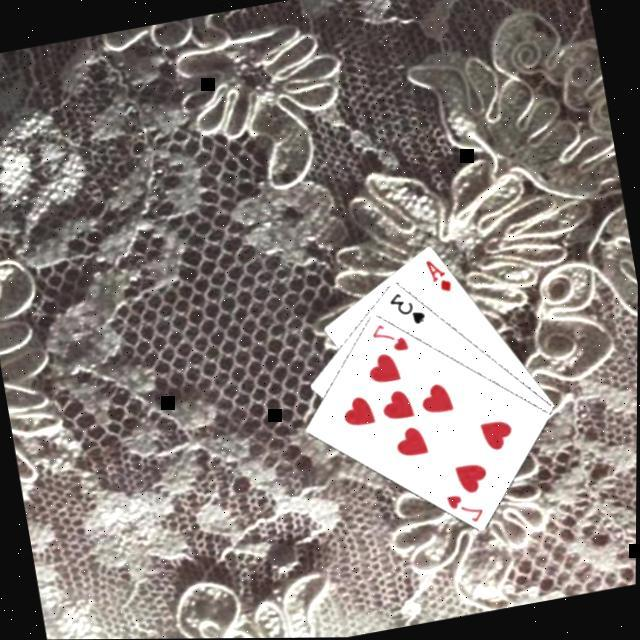3S: (386, 286, 432, 332)
7H: (444, 487, 490, 531), (368, 317, 414, 359)
AD: (423, 254, 458, 298)
